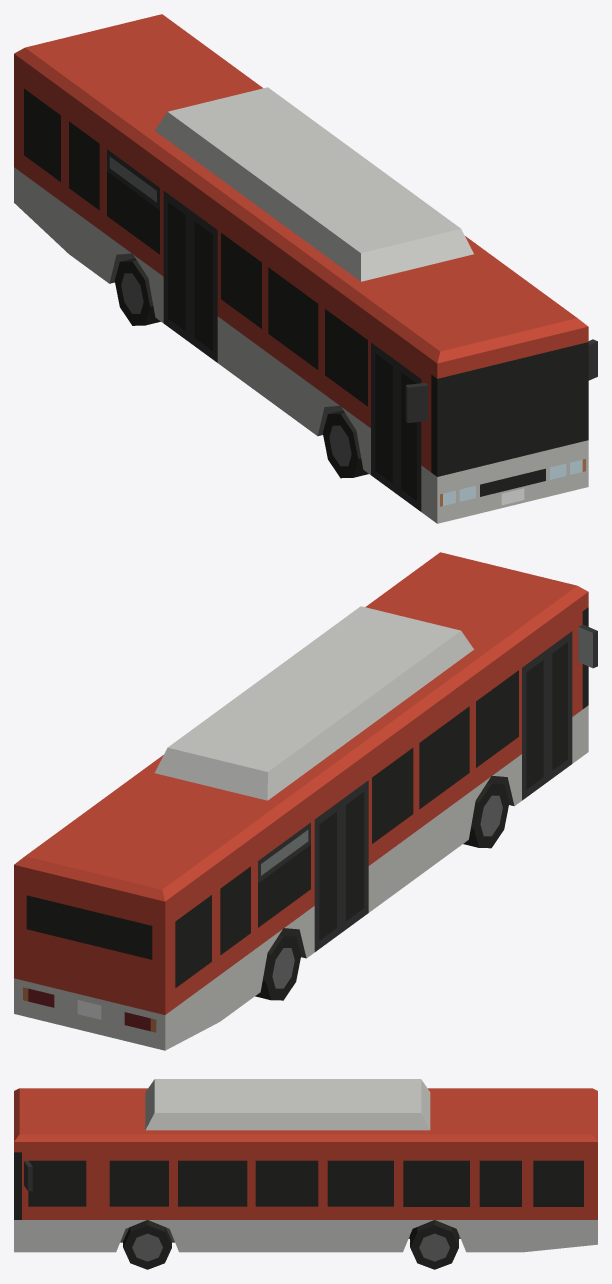
File: Veh_Bus_01_Red.glb
3 renders of one model, top to bottom at view 1: azimuth 30°, elevation 25°; view 2: azimuth 150°, elevation 25°; view 3: azimuth 270°, elevation 25°, orthographic. The views are drawn at different scales.
Visible parts, largest first — view 1: Bus_01_Red, Wheel_RR, Wheel_FR; view 2: Bus_01_Red, Wheel_RR, Wheel_FR; view 3: Bus_01_Red, Wheel_RL, Wheel_FL.
Boxes of the visible parts, x1,y1,x2,y2 form: Bus_01_Red: (14, 14, 597, 523); Wheel_RR: (114, 258, 160, 325); Wheel_FR: (323, 410, 368, 478); Bus_01_Red: (14, 552, 597, 1050); Wheel_RR: (255, 933, 301, 1000); Wheel_FR: (463, 780, 509, 848); Bus_01_Red: (14, 1079, 597, 1252); Wheel_RL: (410, 1220, 458, 1269); Wheel_FL: (123, 1220, 171, 1269).
Bounding box in the file's own units: 1.7 × 1.83 × 6.53.
Materials: 1 (1 with a texture image).
